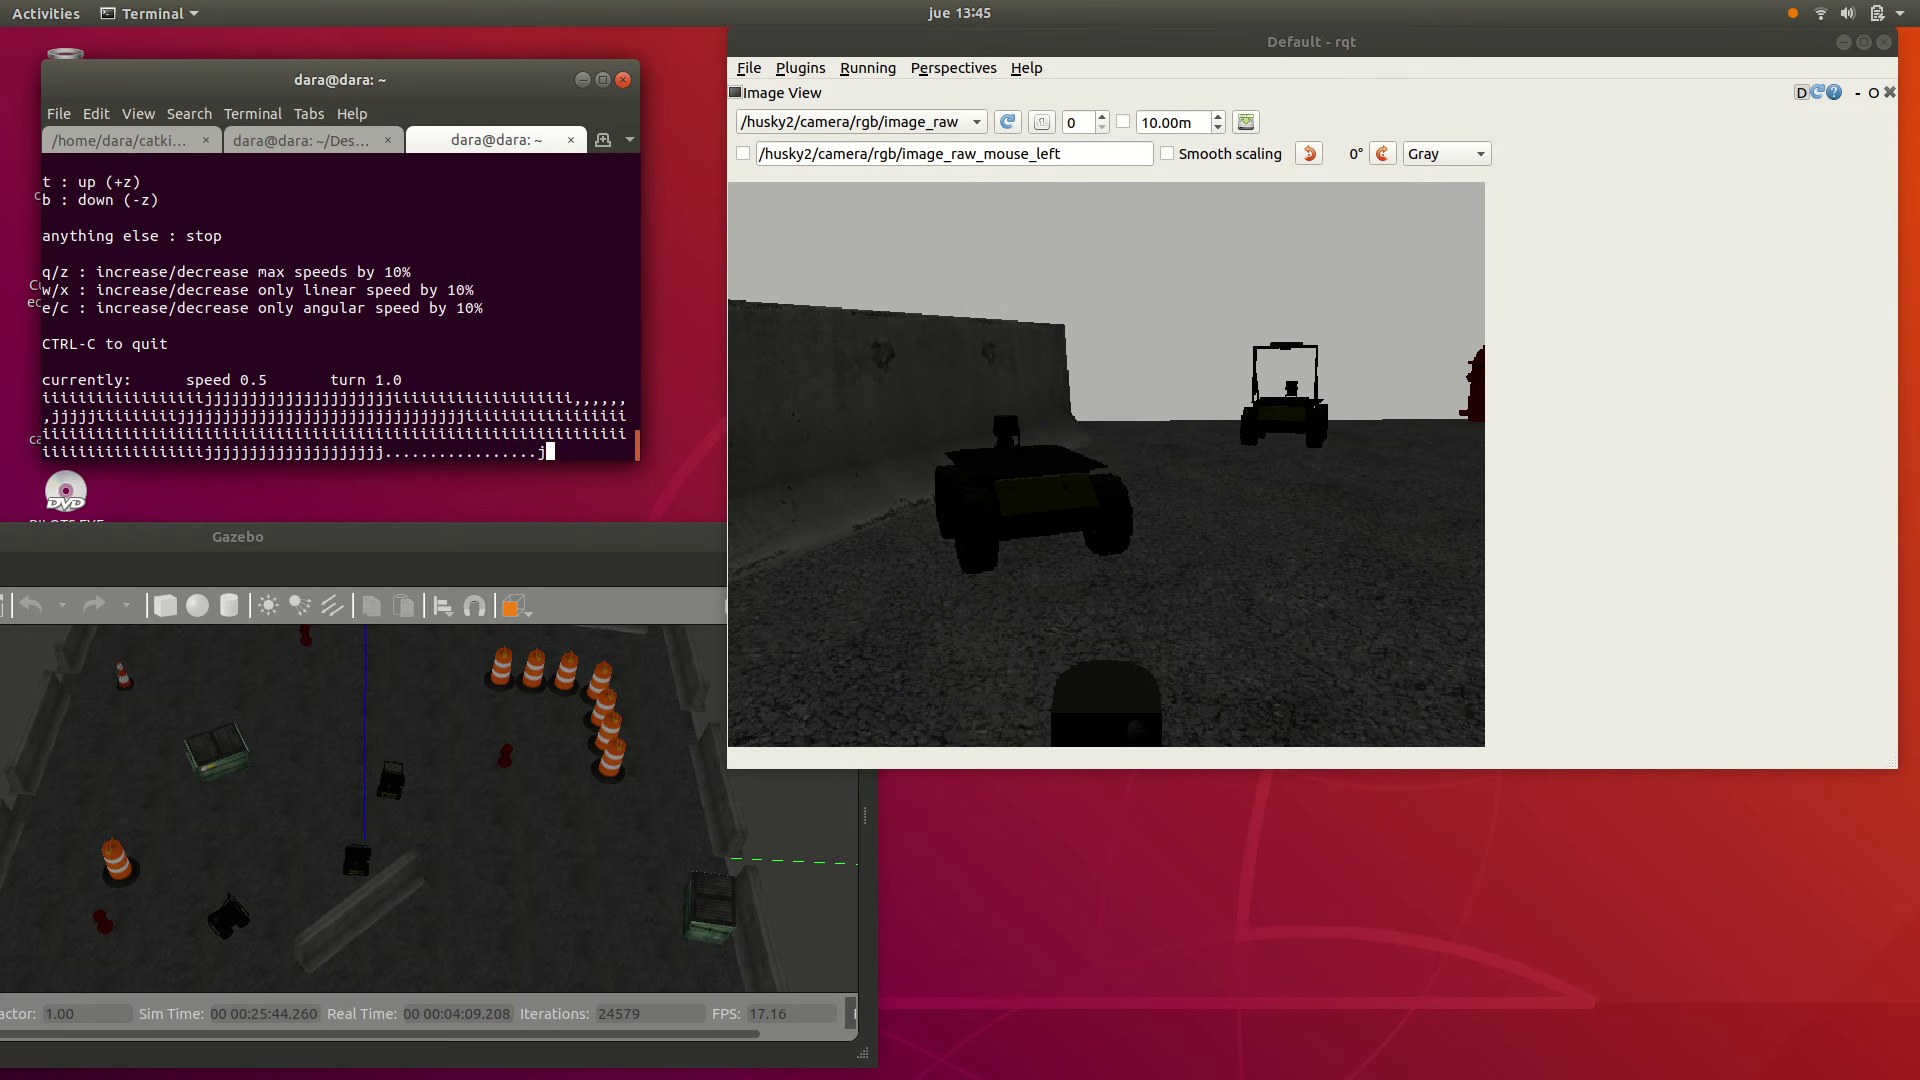husky: (935, 445, 1133, 572), (207, 902, 250, 940), (343, 844, 371, 876), (377, 769, 404, 801)
